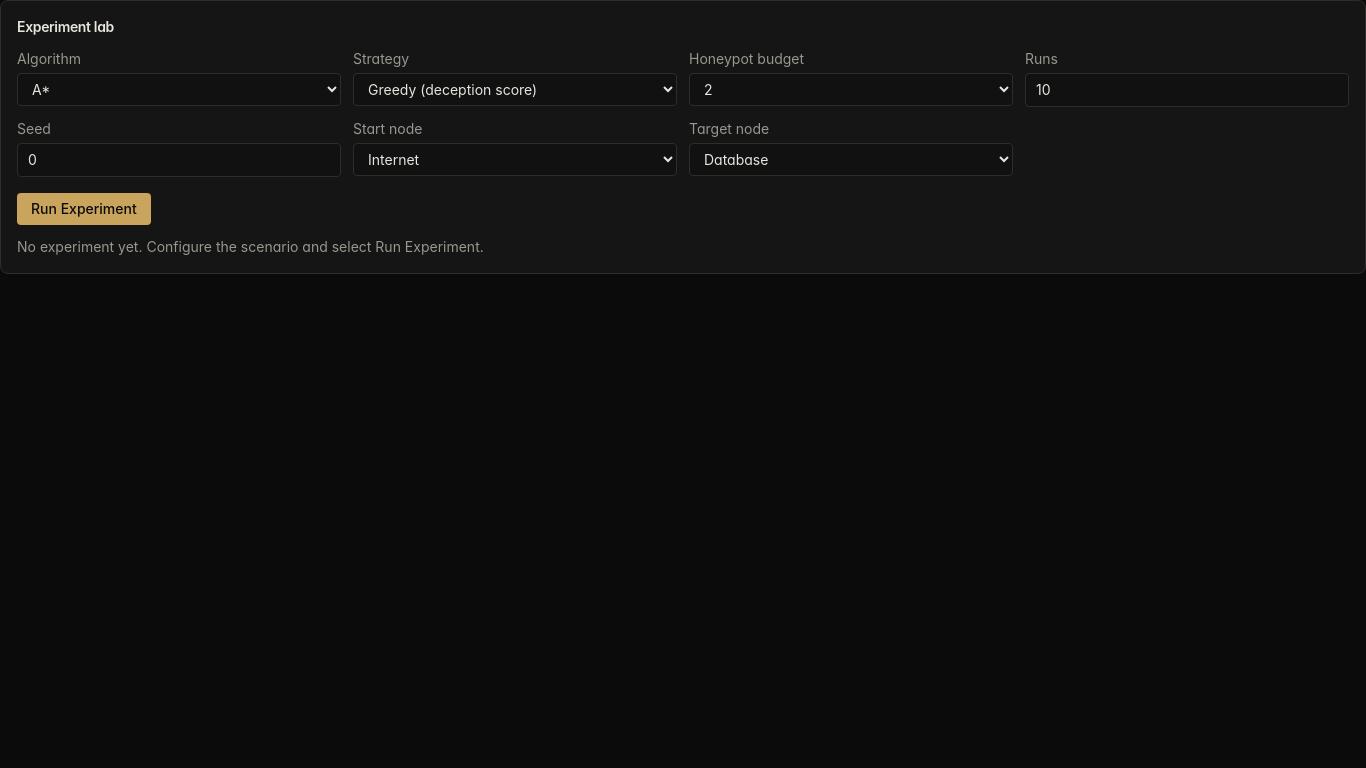
Scenario: ExperimentLab › runs an experiment and shows metrics, comparison, and run history
Step 1. Replace the text in the number field labelled "Runs" with "4" → [1187, 90], box [1025,73,1349,107]
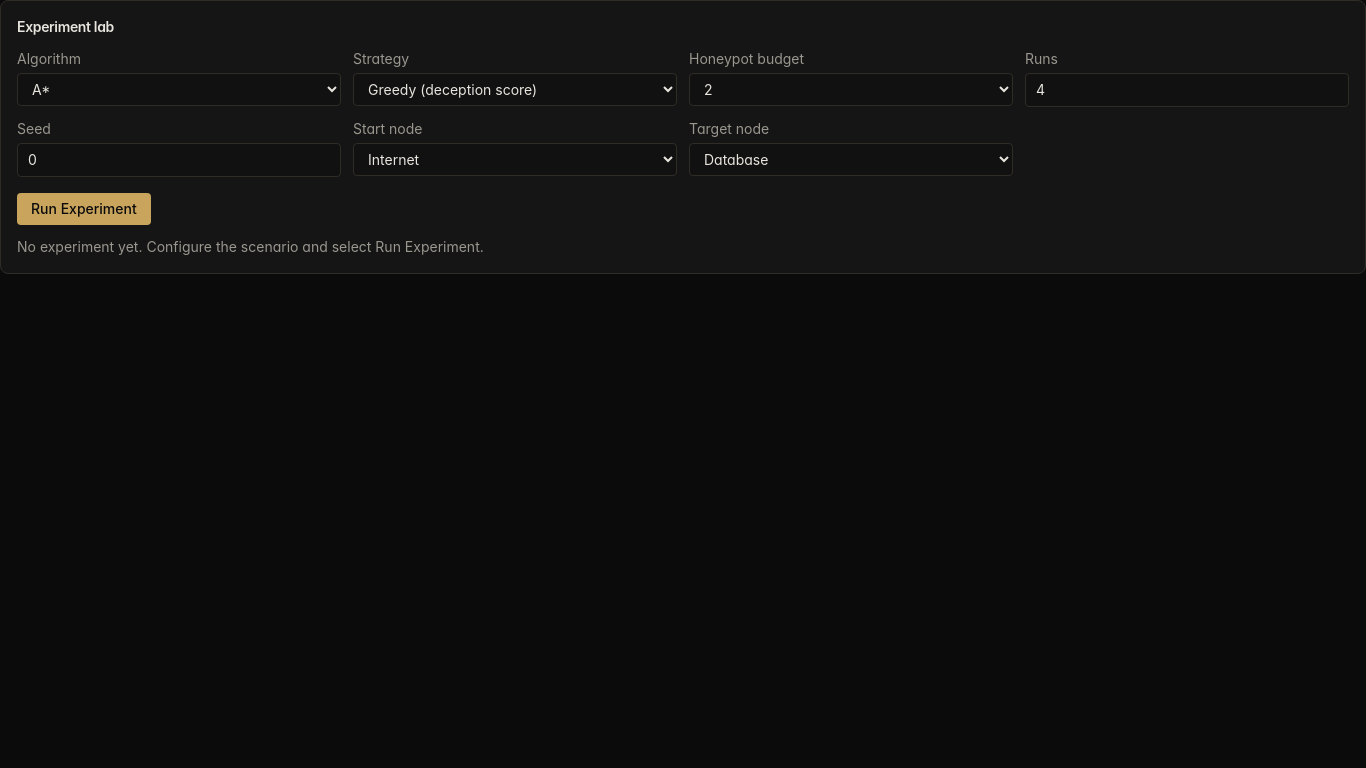
Step 2. Click the button "Run Experiment" → [84, 209], box [17,193,151,225]
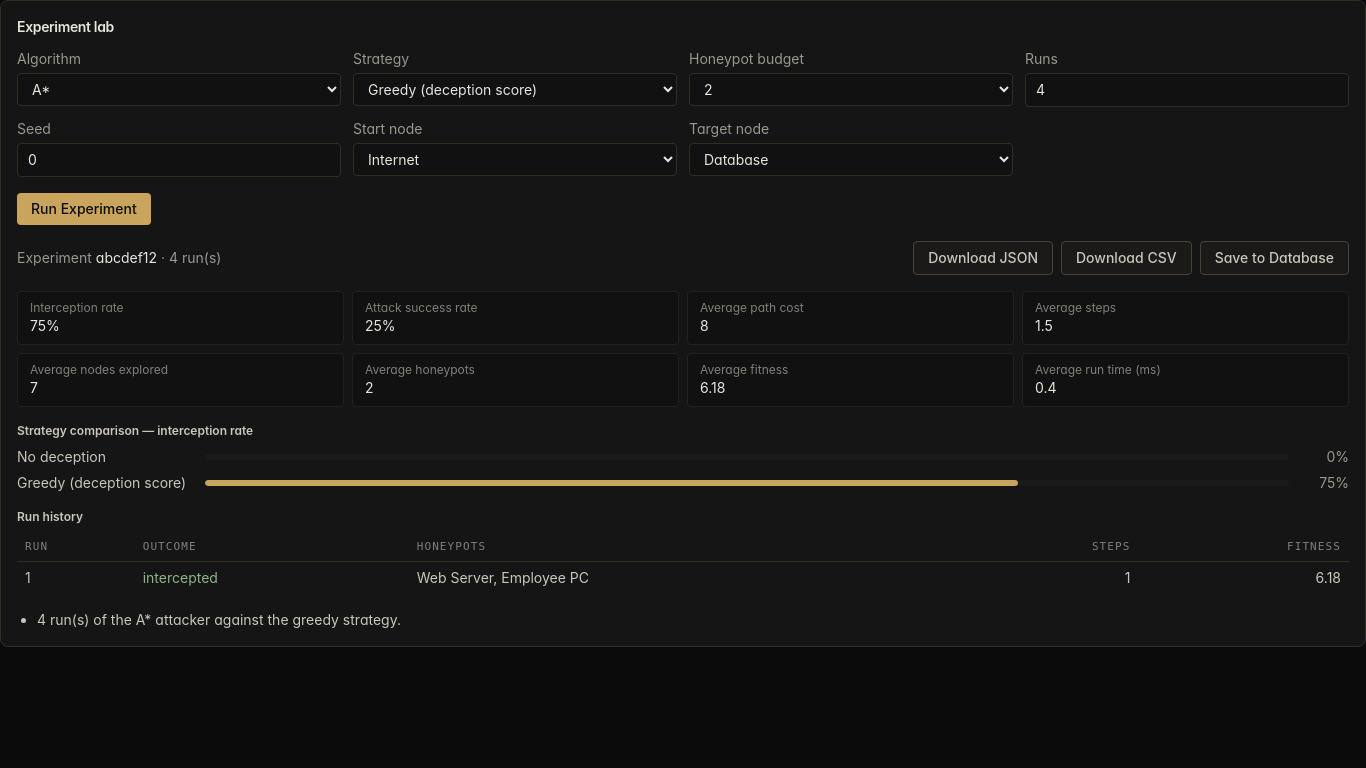
Result: the text "Interception rate" is shown at [30,300,124,315]
Result: the text "75%" next to "25%" is shown at [30,317,60,334]
Result: the text "25%" is shown at [365,317,396,334]
